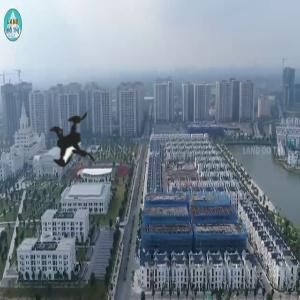drone: (7, 81, 127, 201)
